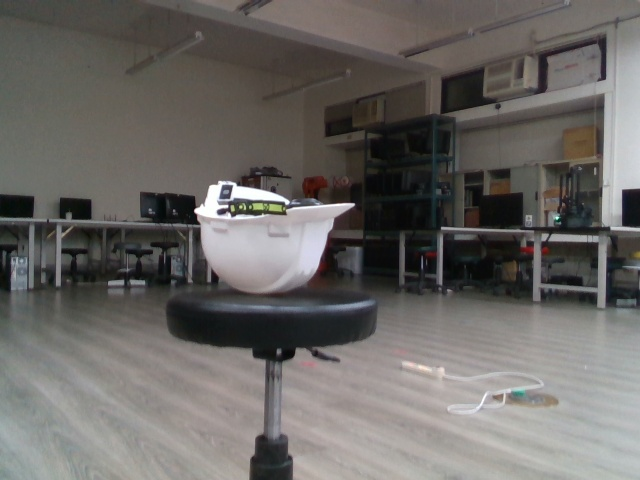helmet: (191, 177, 357, 298)
